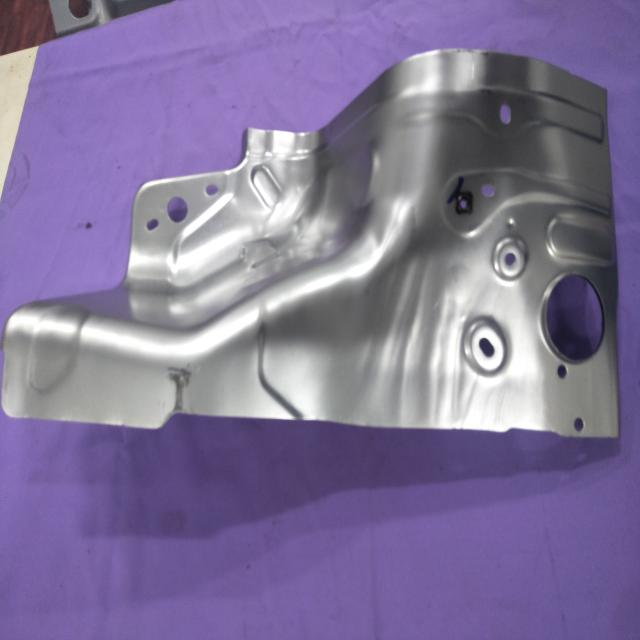Healthy: (3, 45, 621, 444)
